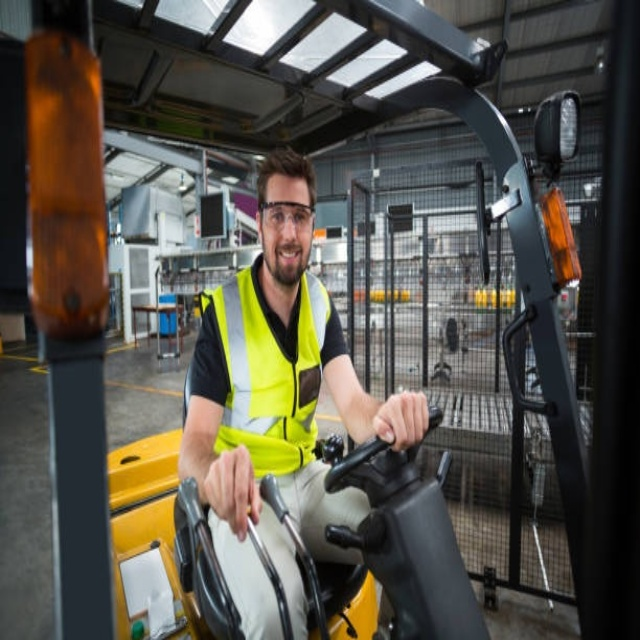Gafas: (260, 203, 315, 231)
Sin_guantes: (204, 443, 261, 540), (373, 389, 429, 452)
Sin_mascara: (273, 242, 305, 273)
